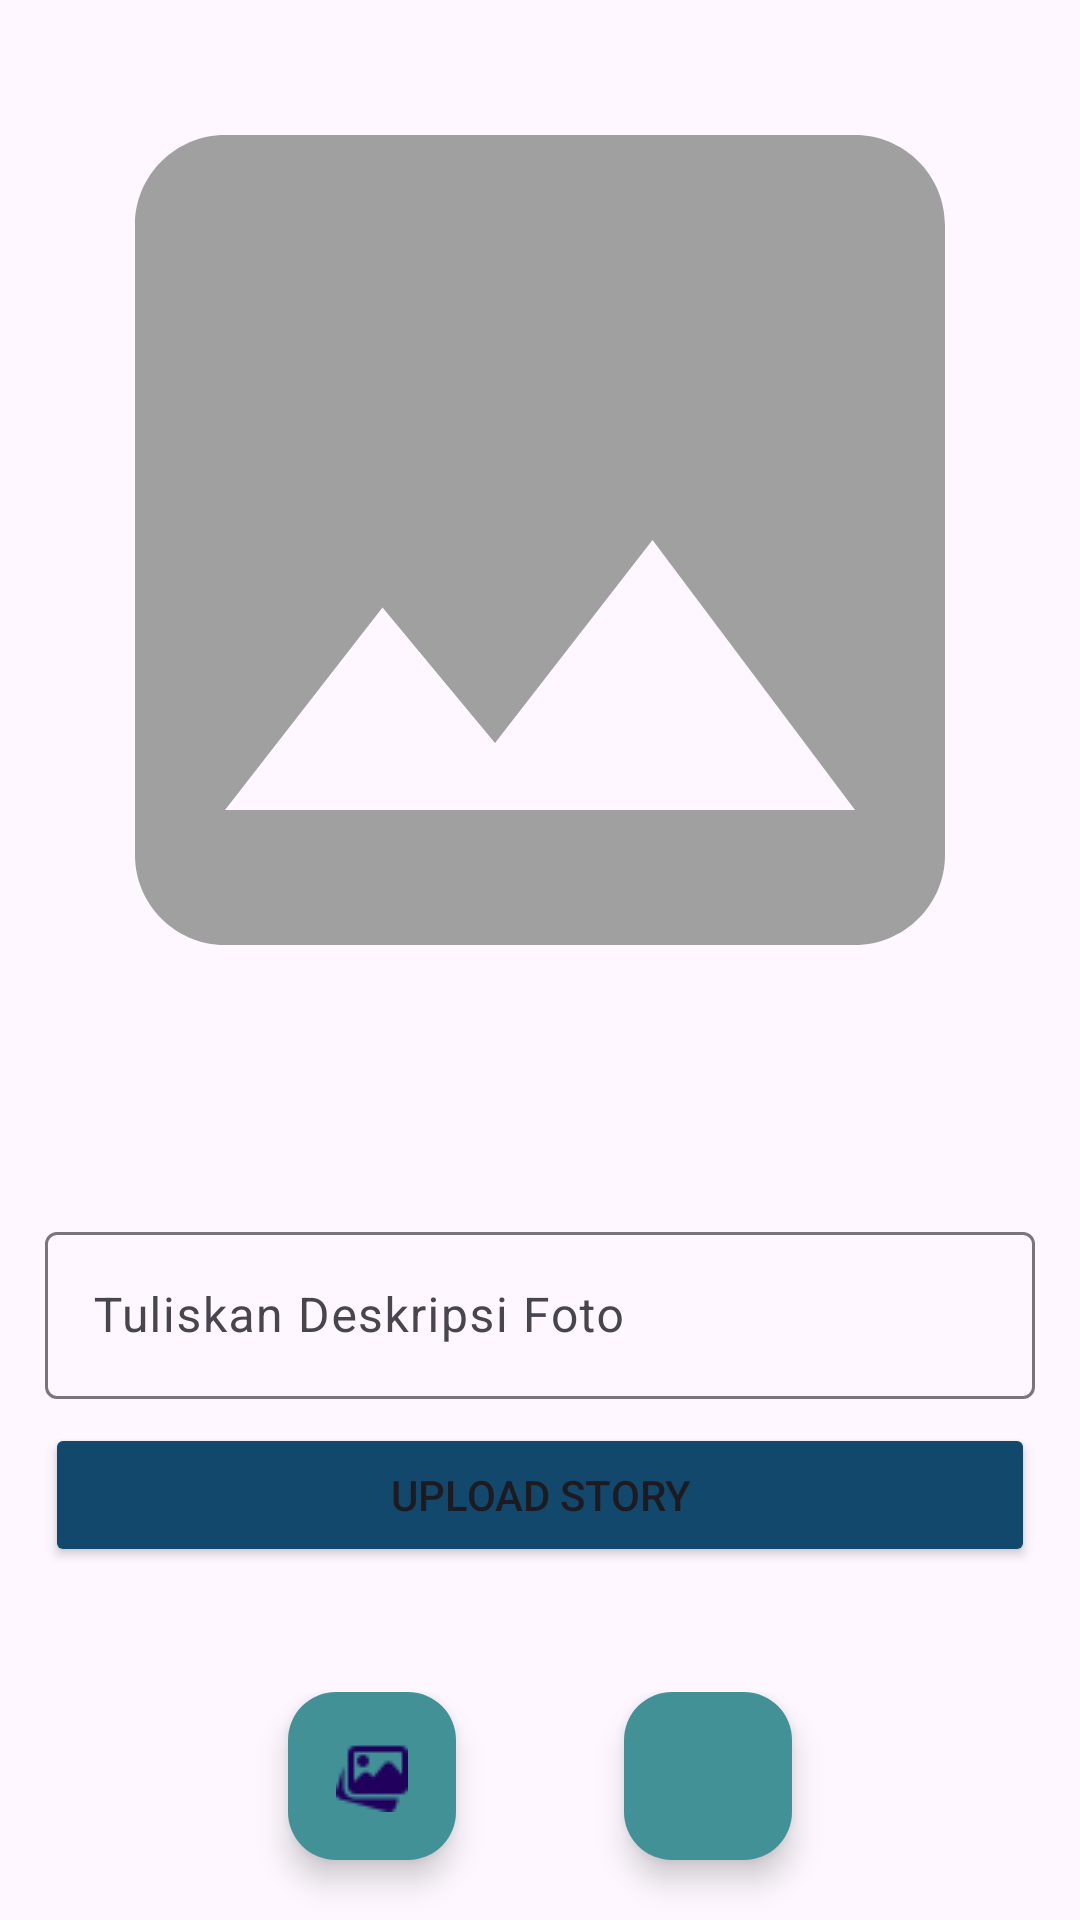

Named icons in this screenshot (1080*1920) and their bounding boxes, (x1, y1, x2, y2):
gallery: (288, 1692, 456, 1860)
